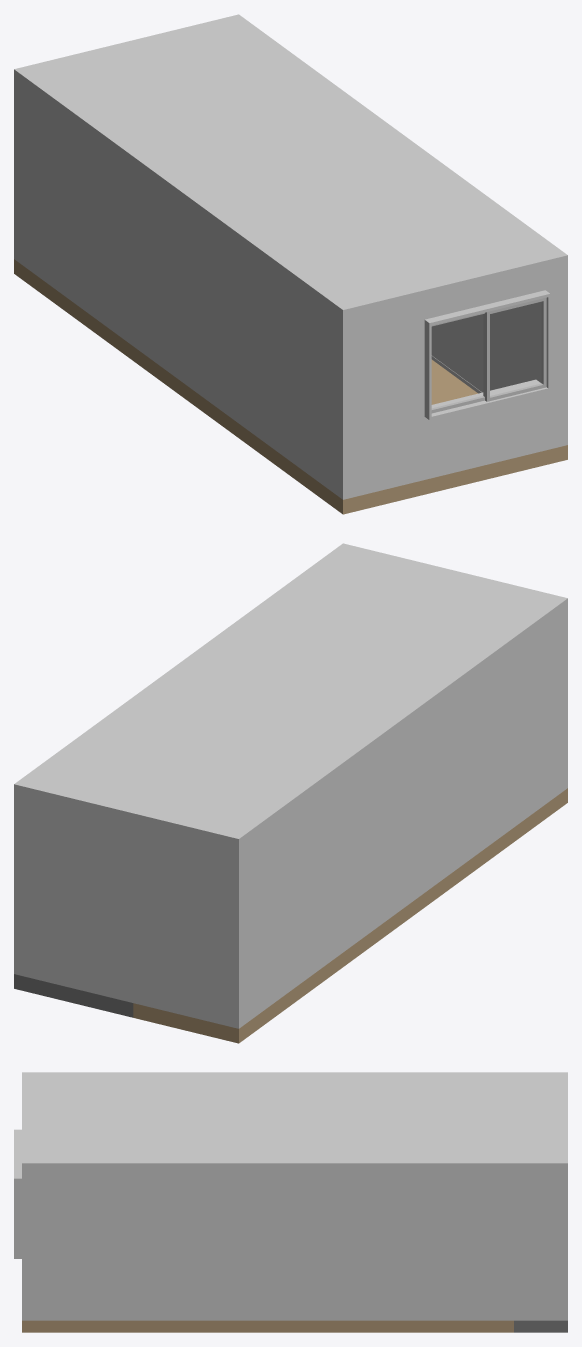
Rendered from EmptyApartementRoom.fbx.
The picture shows the model from 3 angles, top to bottom: view 1: azimuth 30°, elevation 25°; view 2: azimuth 150°, elevation 25°; view 3: azimuth 270°, elevation 25°; orthographic projection. The views are drawn at different scales.
Parts seen in each view (by area): view 1: オブジェクト_23, オブジェクト_54, オブジェクト_193, オブジェクト_186, オブジェクト_189, オブジェクト_175; view 2: オブジェクト_23, オブジェクト_54, オブジェクト_172, オブジェクト_193, オブジェクト_186, オブジェクト_194, オブジェクト_180; view 3: オブジェクト_23, オブジェクト_54, オブジェクト_193, オブジェクト_186, オブジェクト_189, オブジェクト_194.
Boxes of the visible parts, x1,y1,x2,y2 form: オブジェクト_23: (14,84,567,499); オブジェクト_54: (14,14,567,324); オブジェクト_193: (14,259,567,514); オブジェクト_186: (36,50,186,118); オブジェクト_189: (424,290,550,420); オブジェクト_175: (485,297,546,401); オブジェクト_23: (14,613,567,1028); オブジェクト_54: (14,543,567,853); オブジェクト_172: (79,844,131,1002); オブジェクト_193: (133,788,567,1043); オブジェクト_186: (146,761,297,829); オブジェクト_194: (14,974,133,1017); オブジェクト_180: (77,841,133,1002); オブジェクト_23: (22,1175,567,1320); オブジェクト_54: (22,1072,567,1175); オブジェクト_193: (22,1320,513,1332); オブジェクト_186: (448,1077,554,1112); オブジェクト_189: (14,1129,21,1258); オブジェクト_194: (514,1320,567,1332).
Bounding box in the file's own units: 320 × 278 × 823.
